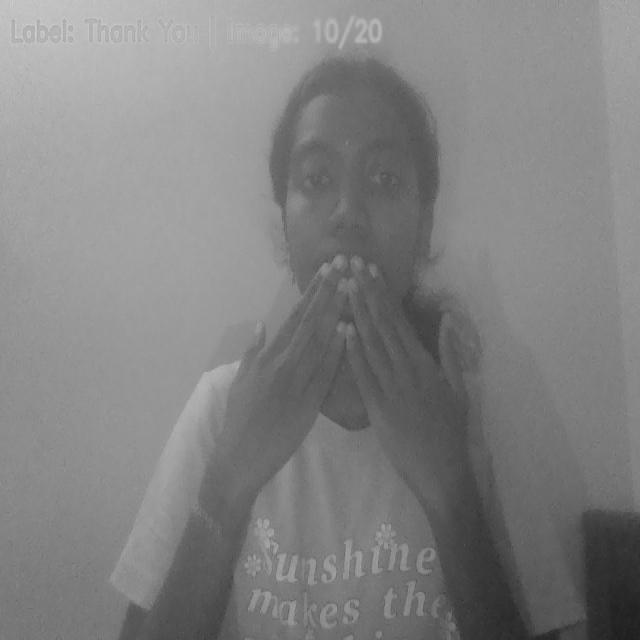Thank You: (214, 255, 478, 518)
